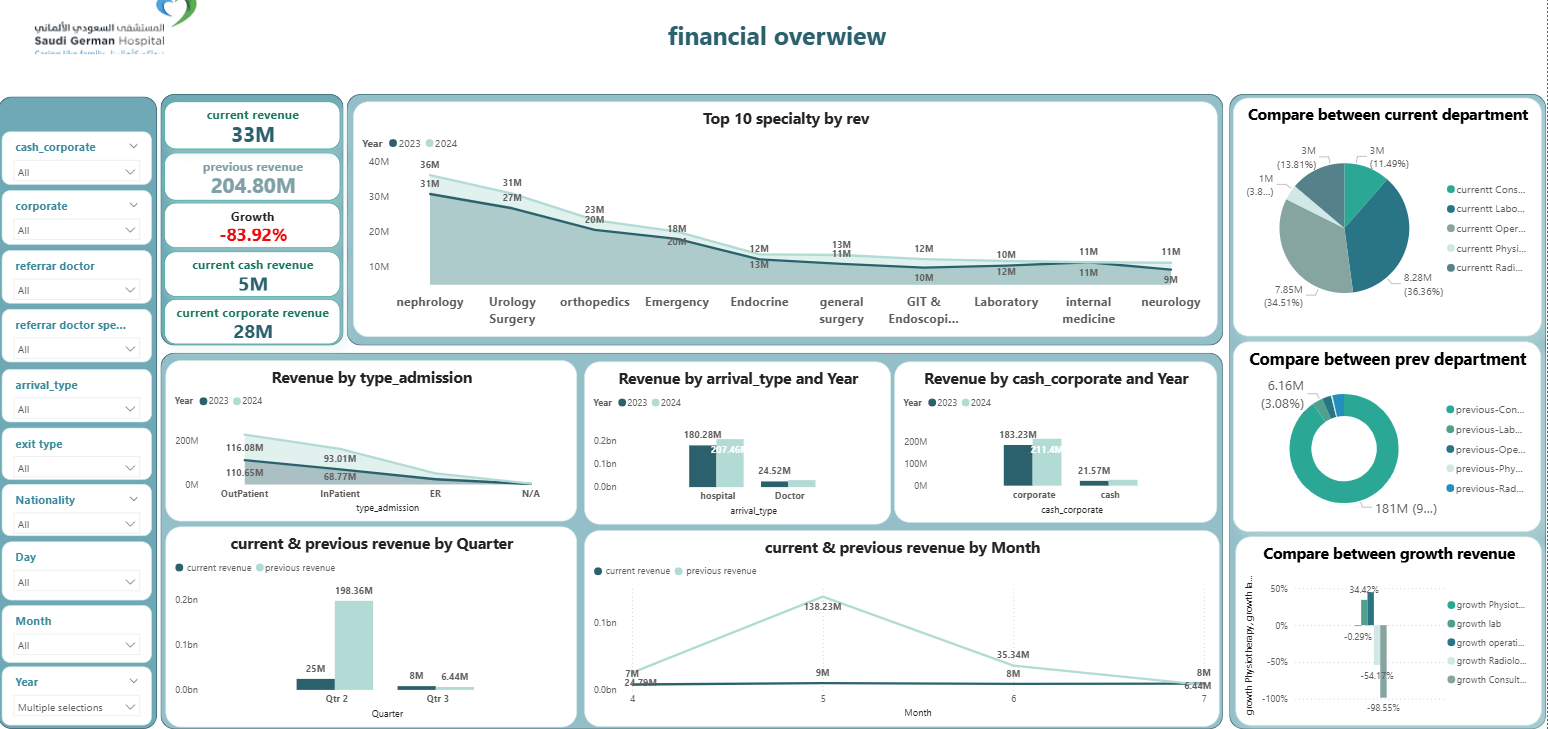

Layout of this report page (visuals, bound fields, positions):
{"tool":"powerbi","page":{"name":" Fainancial Overview ","canvas":[2000,950],"ordinal":1},"visuals":[{"type":"shape","box":[210.1,463.4,1371.5,485.9],"z":0},{"type":"shape","box":[1589.1,129.5,409,819.9],"z":1000},{"type":"shape","box":[450.3,129.5,1131.3,324.6],"z":2000},{"type":"shape","box":[210.1,129.5,236.4,324.6],"z":3000},{"type":"shape","box":[0,132.9,205.4,816.4],"z":4000},{"type":"slicer","fields":{"Values":["Table1.Day"]},"box":[5.2,706,193.3,75.9],"z":5000},{"type":"slicer","fields":{"Values":["Table1.cash_corporate"]},"box":[5.2,177.8,193.3,69],"z":6000},{"type":"slicer","fields":{"Values":["Table1.corporate"]},"box":[5.2,253.7,193.3,70.8],"z":7000},{"type":"slicer","fields":{"Values":["Table1.arrival_type"]},"box":[5.2,483.3,193.3,69],"z":8000},{"type":"slicer","fields":{"Values":["Table1.Nationality"]},"box":[5.2,631.7,193.3,67.3],"z":9000},{"type":"slicer","fields":{"Values":["Table1.exit type"]},"box":[5.2,559.2,193.3,67.3],"z":10000},{"type":"slicer","fields":{"Values":["Table1.referrar doctor specialty"]},"box":[5.2,407.3,193.3,69],"z":11000},{"type":"card","title":"previous revenue","fields":{"Values":["Table1.total- previous revenue"]},"box":[213.9,204.5,227,61.9],"z":12000},{"type":"card","title":"current revenue","fields":{"Values":["Table1.total- current revenue"]},"box":[213.9,138.8,227,61.9],"z":13000},{"type":"card","title":"Growth","fields":{"Values":["Table1.growth"]},"box":[213.9,270.2,227,58.2],"z":14000},{"type":"clusteredColumnChart","title":"current & previous revenue by Quarter","fields":{"Y":["Table1.total- current revenue","Table1.total- previous revenue"],"Category":["Table1.Quarter"]},"box":[215.8,686.7,531,258.9],"z":15000},{"type":"slicer","fields":{"Values":["Table1.Month"]},"box":[5.2,788.8,193.3,74.2],"z":16000},{"type":"slicer","fields":{"Values":["Table1.Year"]},"box":[5.2,868.2,193.3,75.9],"z":17000},{"type":"slicer","fields":{"Values":["Table1.referrar doctor"]},"box":[5.2,331.4,193.3,69],"z":18000},{"type":"card","title":"current cash revenue","fields":{"Values":["Table1.total- current revenue"]},"box":[213.9,332.1,227,58.2],"z":19000},{"type":"card","title":"current corporate revenue","fields":{"Values":["Table1.total- current revenue"]},"box":[213.9,394,227,58.2],"z":20000},{"type":"lineChart","title":" current & previous revenue by Month","fields":{"Category":["Table1.Month"],"Y":["Table1.total- current revenue","Table1.total- previous revenue"]},"box":[756.1,692.3,819.9,253.3],"z":21000},{"type":"areaChart","title":"Top 10 specialty by rev ","fields":{"Category":["Table1.referrar doctor specialty"],"Series":["Table1.Year"],"Y":["Table1.total rev"]},"box":[457.8,138.8,1116.3,303.9],"z":22000},{"type":"clusteredColumnChart","title":"Revenue  by arrival_type and Year","fields":{"Category":["Table1.arrival_type"],"Series":["Table1.Year"],"Y":["Table1.total rev"]},"box":[756.1,474.7,395.9,210.1],"z":23000},{"type":"clusteredColumnChart","title":"Revenue  by cash_corporate and Year","fields":{"Category":["Table1.cash_corporate"],"Series":["Table1.Year"],"Y":["Table1.total rev"]},"box":[1157.6,474.7,416.5,208.3],"z":24000},{"type":"stackedAreaChart","title":"Revenue  by type_admission","fields":{"Category":["Table1.type_admission"],"Series":["Table1.Year"],"Y":["Table1.total rev"]},"box":[215.8,472.8,531,208.3],"z":25000},{"type":"pieChart","title":"Compare between  current department","fields":{"Y":["Table1.currentt Consultation","Table1.currentt Laboratory","Table1.currentt Operations","Table1.currentt Physiotherapy","Table1.currentt Radiology"]},"box":[1594.1,133.9,398.5,308.2],"z":26000},{"type":"donutChart","title":"Compare between prev department","fields":{"Y":["Table1.previous-Consultation & Follow UP","Table1.previous-Laboratory","Table1.previous-Operations","Table1.previous-Physiotherapy","Table1.previous-Radiology"]},"box":[1594.7,448.4,397.7,245.8],"z":27000},{"type":"shape","box":[577.9,11.3,896.8,82.6],"z":28000},{"type":"image","box":[0,0,303.9,82.6],"z":29000},{"type":"clusteredColumnChart","title":"Compare between growth revenue","fields":{"Y":["Table1.growth Physiotherapy","Table1.growth lab","Table1.growth operation","Table1.growth Radiology","Table1.growth Consultation"]},"box":[1597.3,700.2,395.3,243.6],"z":30000}]}

Visuals, with their boxes in screenshot pixels (x1, y1, x2, y2), scaled from the page's 2000x950 canvas onto the 1548x729 screenshot:
shape: {"left": 163, "top": 356, "right": 1224, "bottom": 728}
shape: {"left": 1230, "top": 99, "right": 1547, "bottom": 728}
shape: {"left": 349, "top": 99, "right": 1224, "bottom": 348}
shape: {"left": 163, "top": 99, "right": 346, "bottom": 348}
shape: {"left": 0, "top": 102, "right": 159, "bottom": 728}
slicer - Table1.Day: {"left": 4, "top": 542, "right": 154, "bottom": 600}
slicer - Table1.cash_corporate: {"left": 4, "top": 136, "right": 154, "bottom": 189}
slicer - Table1.corporate: {"left": 4, "top": 195, "right": 154, "bottom": 249}
slicer - Table1.arrival_type: {"left": 4, "top": 371, "right": 154, "bottom": 424}
slicer - Table1.Nationality: {"left": 4, "top": 485, "right": 154, "bottom": 536}
slicer - Table1.exit type: {"left": 4, "top": 429, "right": 154, "bottom": 481}
slicer - Table1.referrar doctor specialty: {"left": 4, "top": 313, "right": 154, "bottom": 365}
"previous revenue" card: {"left": 166, "top": 157, "right": 341, "bottom": 204}
"current revenue" card: {"left": 166, "top": 107, "right": 341, "bottom": 154}
"Growth" card: {"left": 166, "top": 207, "right": 341, "bottom": 252}
"current & previous revenue by Quarter" clusteredColumnChart: {"left": 167, "top": 527, "right": 578, "bottom": 726}
slicer - Table1.Month: {"left": 4, "top": 605, "right": 154, "bottom": 662}
slicer - Table1.Year: {"left": 4, "top": 666, "right": 154, "bottom": 724}
slicer - Table1.referrar doctor: {"left": 4, "top": 254, "right": 154, "bottom": 307}
"current cash revenue" card: {"left": 166, "top": 255, "right": 341, "bottom": 300}
"current corporate revenue" card: {"left": 166, "top": 302, "right": 341, "bottom": 347}
" current & previous revenue by Month" lineChart: {"left": 585, "top": 531, "right": 1220, "bottom": 726}
"Top 10 specialty by rev " areaChart: {"left": 354, "top": 107, "right": 1218, "bottom": 340}
"Revenue  by arrival_type and Year" clusteredColumnChart: {"left": 585, "top": 364, "right": 892, "bottom": 525}
"Revenue  by cash_corporate and Year" clusteredColumnChart: {"left": 896, "top": 364, "right": 1218, "bottom": 524}
"Revenue  by type_admission" stackedAreaChart: {"left": 167, "top": 363, "right": 578, "bottom": 523}
"Compare between  current department" pieChart: {"left": 1234, "top": 103, "right": 1542, "bottom": 339}
"Compare between prev department" donutChart: {"left": 1234, "top": 344, "right": 1542, "bottom": 533}
shape: {"left": 447, "top": 9, "right": 1141, "bottom": 72}
image: {"left": 0, "top": 0, "right": 235, "bottom": 63}
"Compare between growth revenue" clusteredColumnChart: {"left": 1236, "top": 537, "right": 1542, "bottom": 724}
